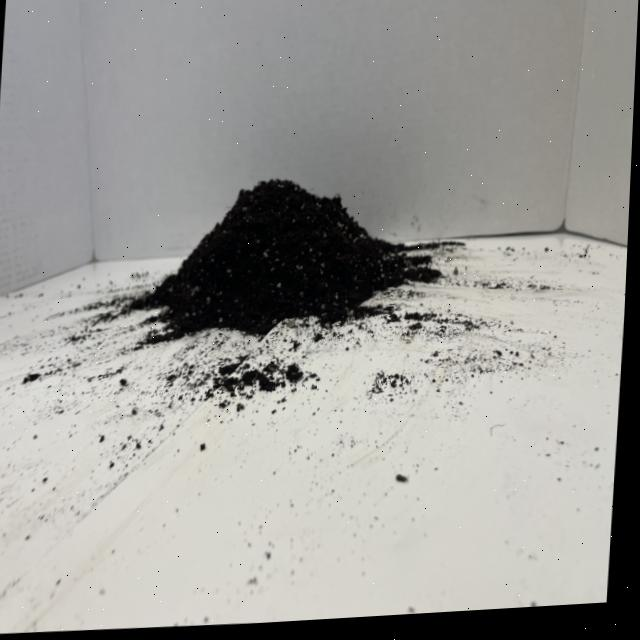soil: (129, 161, 449, 350)
